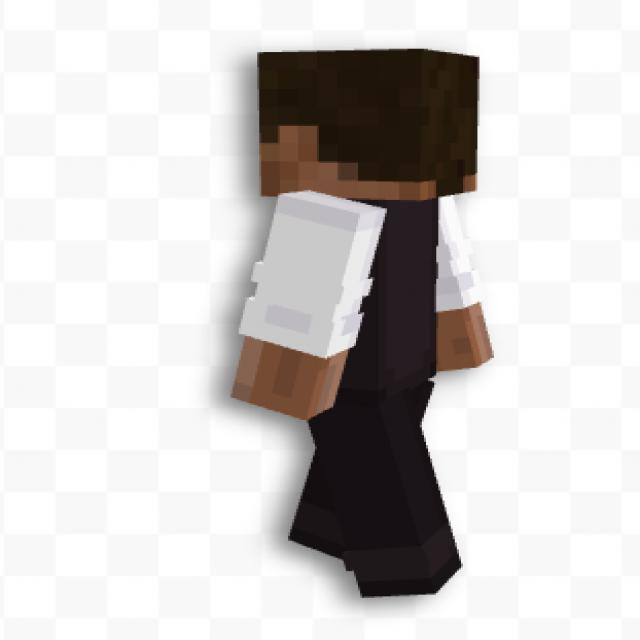Player: (226, 50, 494, 590)
